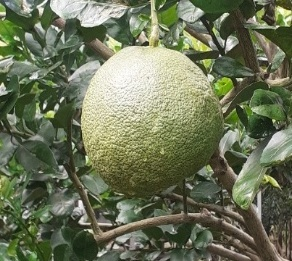Buoi: (80, 43, 227, 196)
